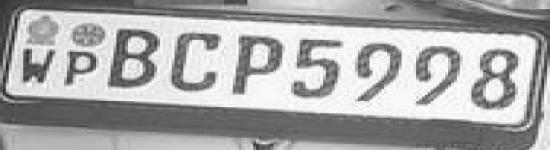5: (291, 36, 353, 103)
8: (468, 46, 525, 111)
9: (408, 43, 469, 108), (351, 40, 409, 107)
B: (108, 25, 168, 90)
C: (169, 30, 231, 99)
P: (229, 32, 289, 99), (64, 50, 103, 87)
W: (18, 46, 65, 85)
